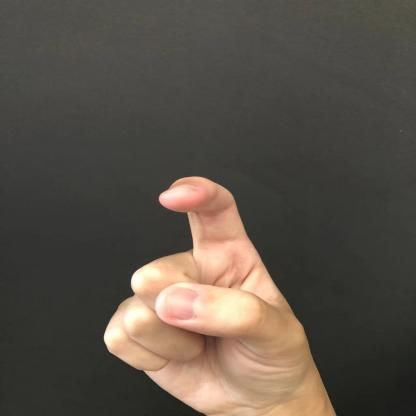finger_point: (114, 149, 305, 289)
